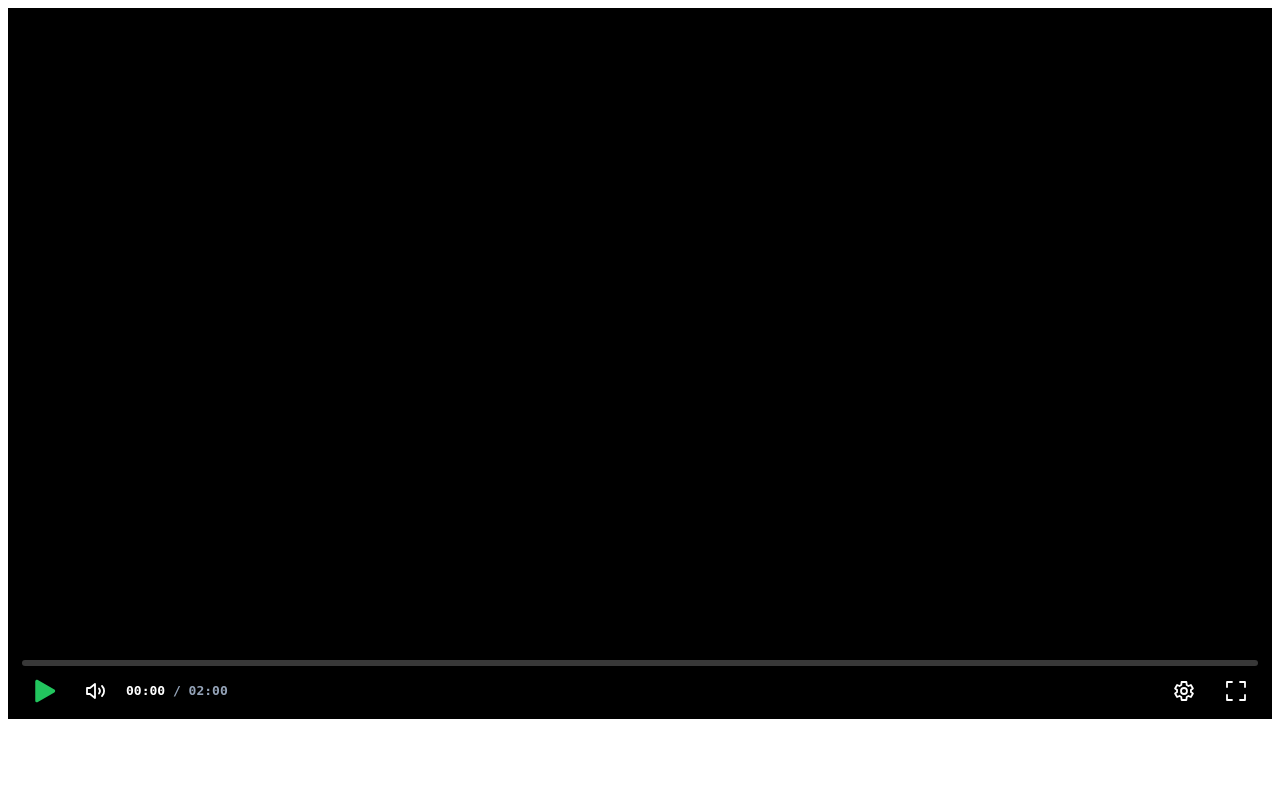
Scenario: LibmediaPlayer › separates library details from video information
Right-click the element with class "libmedia-player-core__surface" at point(640, 364), box [8,8,1272,719]
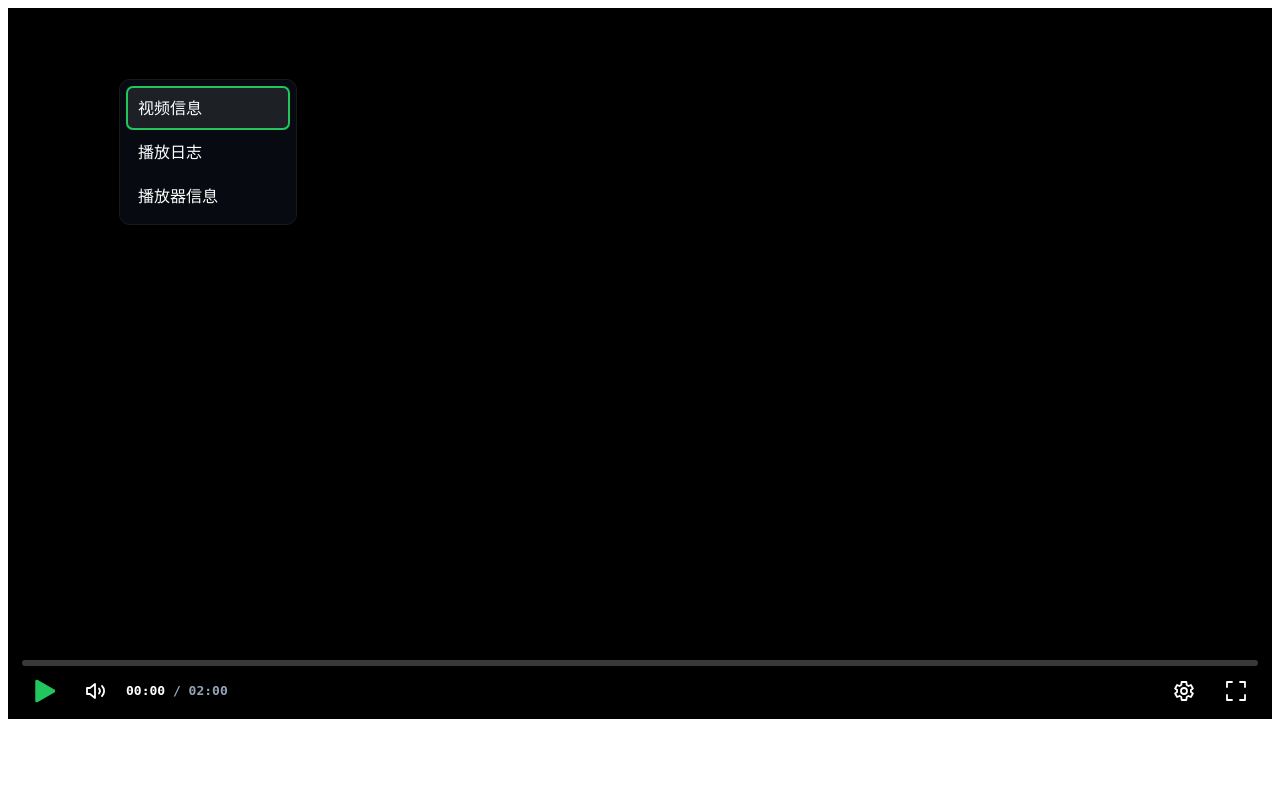
Click the menu item "视频信息" at point(208, 108), box [126,86,290,130]
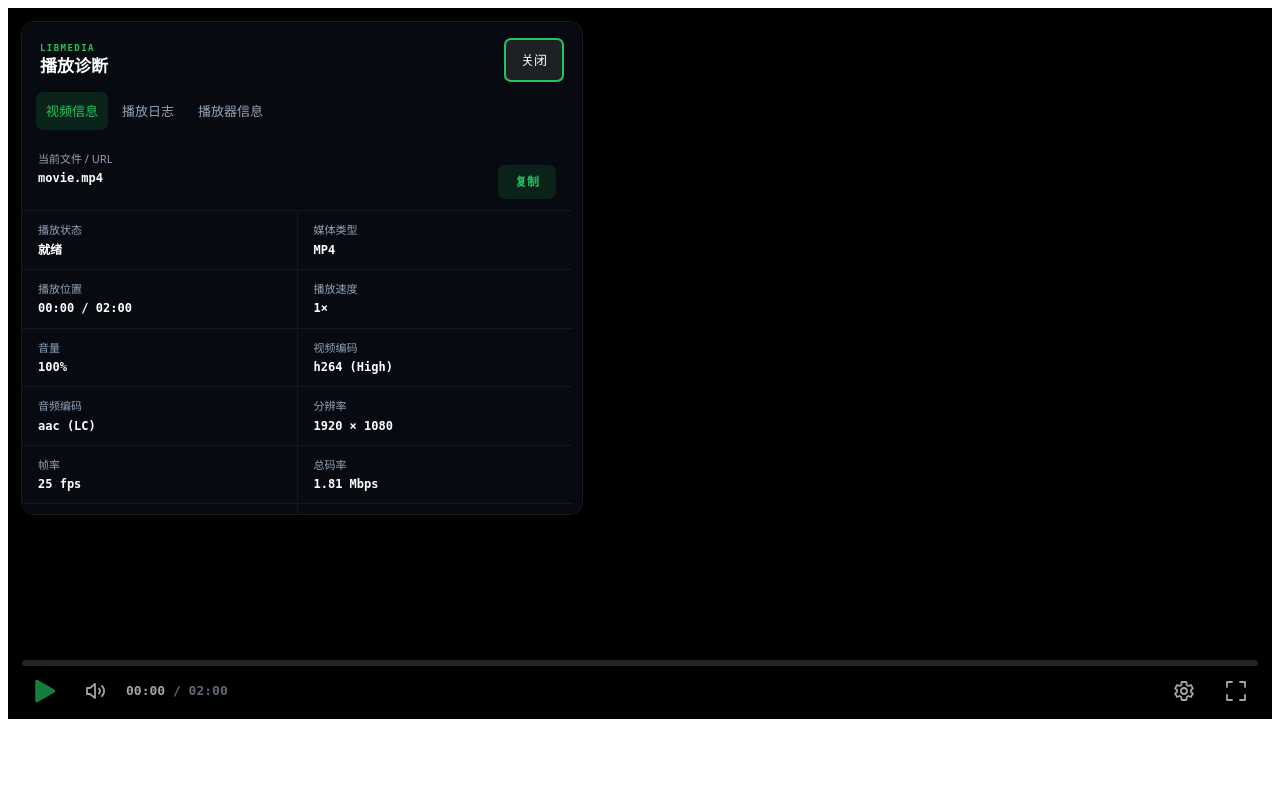
Expected: the element with class "libmedia-diagnostics" does not show "libmedia-avp-vue3"
Expected: the element with class "libmedia-diagnostics" does not show "GitHub 地址"
Click the button with aria-label "关闭播放诊断" at point(534, 60), box [504,38,564,82]
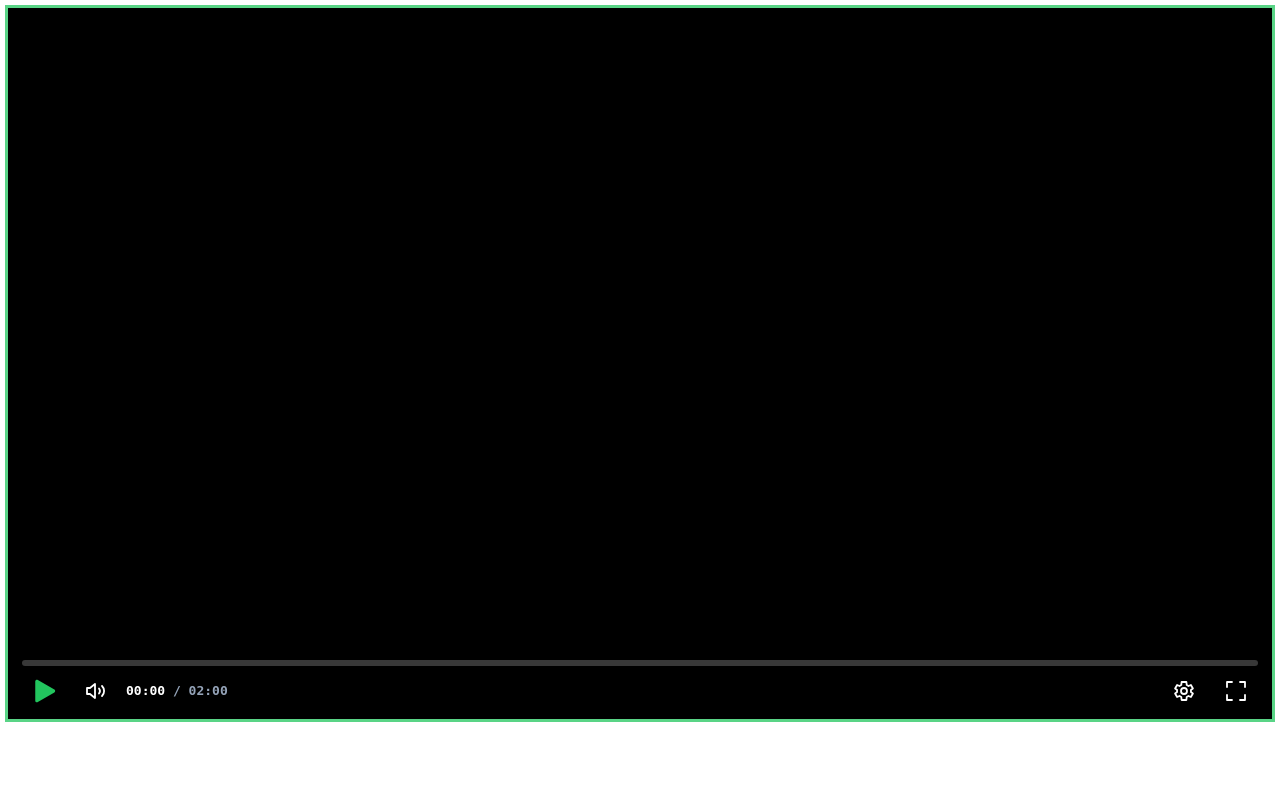
Right-click the element with class "libmedia-player-core__surface" at point(640, 364), box [8,8,1272,719]
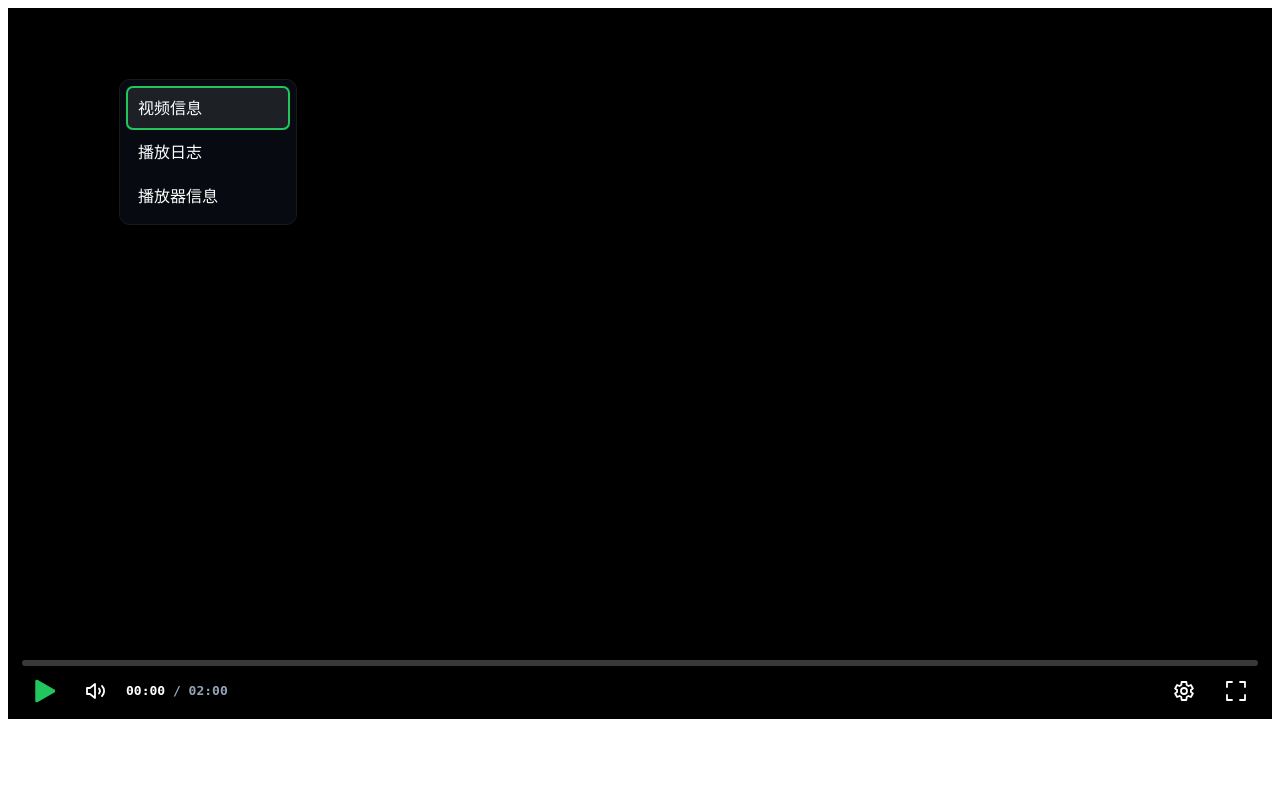
Click the menu item "播放器信息" at point(208, 196), box [126,174,290,218]
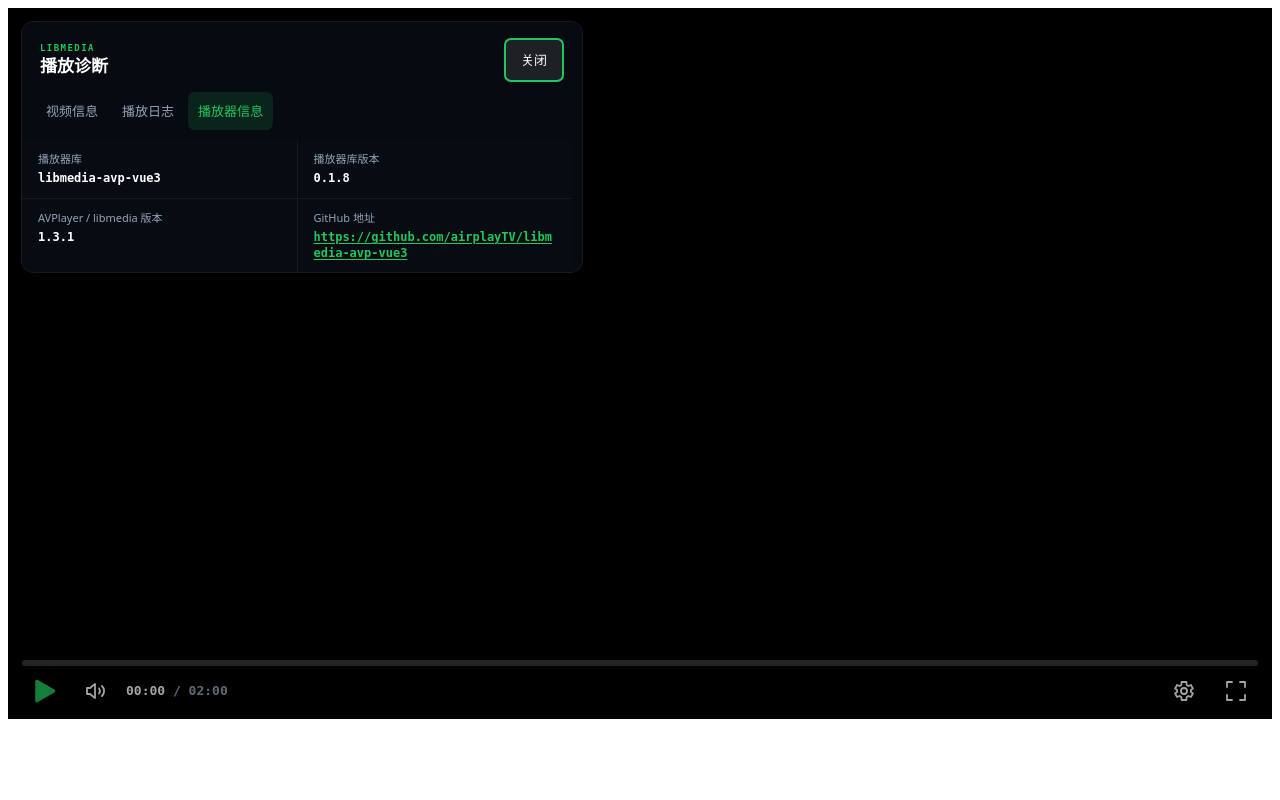
Expected: the tab "播放器信息" is shown, [188,92,273,130]
Expected: the dialog with class "libmedia-diagnostics" shows "libmedia-avp-vue3", [38,171,161,185]
Expected: the dialog with class "libmedia-diagnostics" shows "0.1.8", [314,171,350,185]
